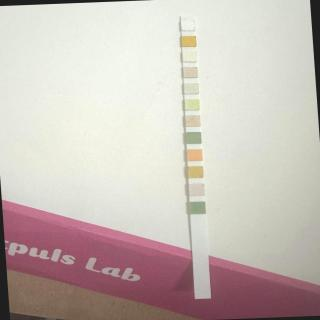mark: (188, 183, 204, 196), (189, 202, 205, 214), (188, 166, 204, 178), (186, 148, 202, 160), (182, 66, 198, 78), (180, 19, 196, 31), (186, 132, 201, 144), (185, 115, 199, 127), (184, 100, 198, 110), (184, 84, 198, 94), (182, 52, 196, 62), (181, 36, 195, 46)
